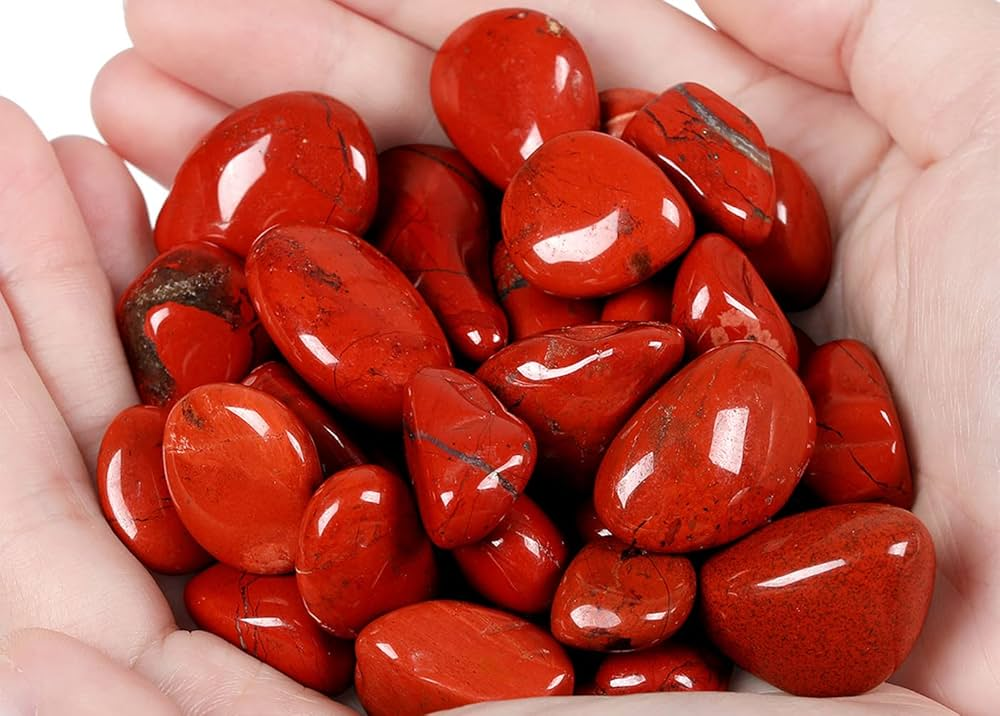Red_Jasper: (178, 74, 898, 691)
